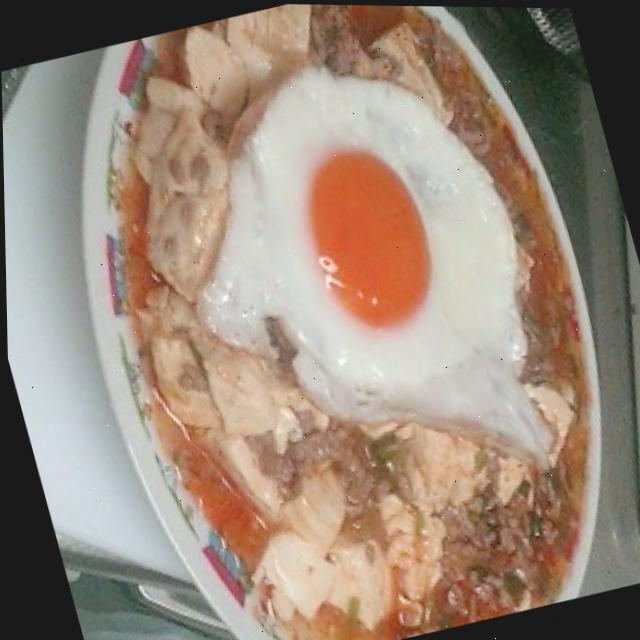鸡蛋料理: (124, 7, 609, 556)
